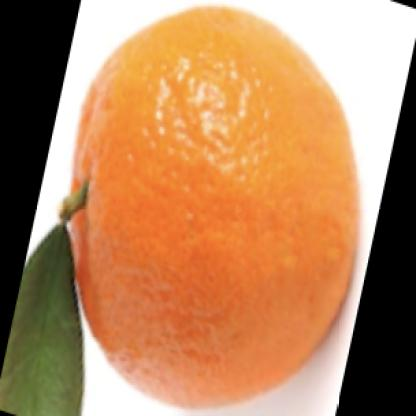fresh: (65, 8, 360, 403)
